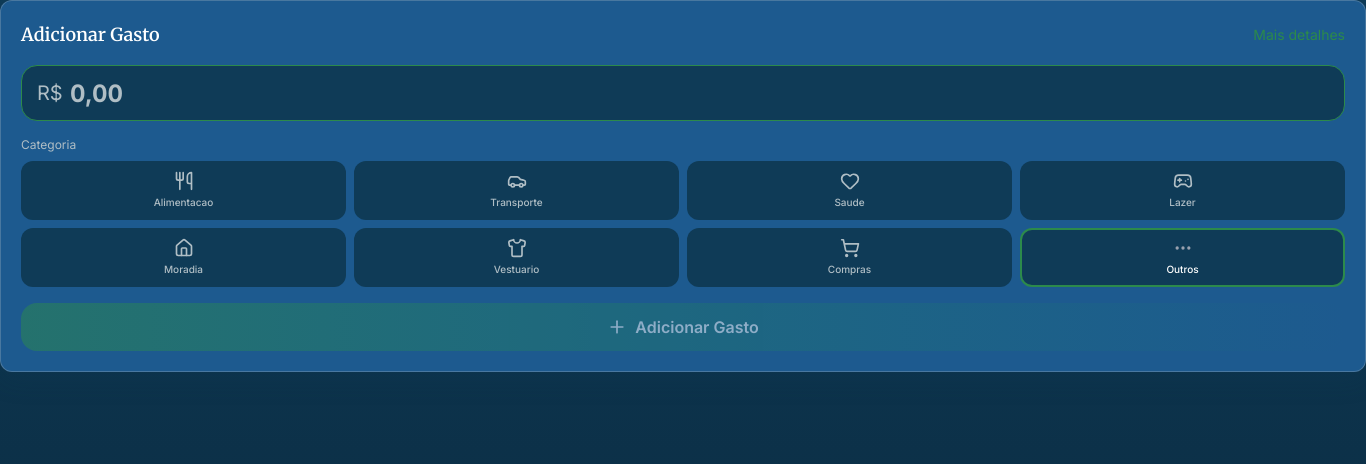
Test: logging an expense takes one number › should show the server error instead of pretending it worked
In the field with placeholder "0,00": (683, 93) [21,65,1345,121], type "30"
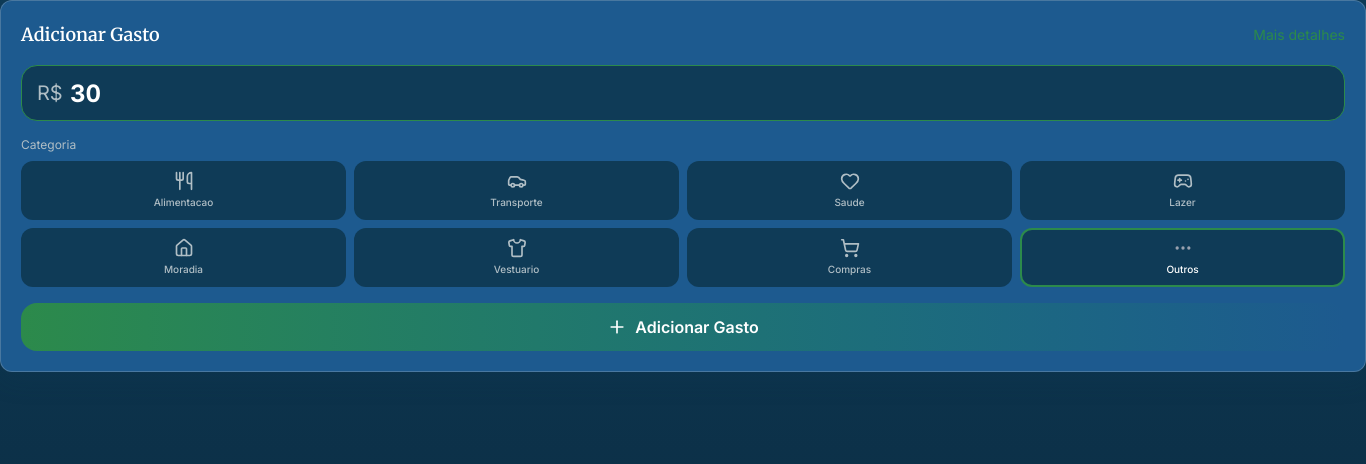
Click the button "Adicionar Gasto": (683, 327) [21,303,1345,351]
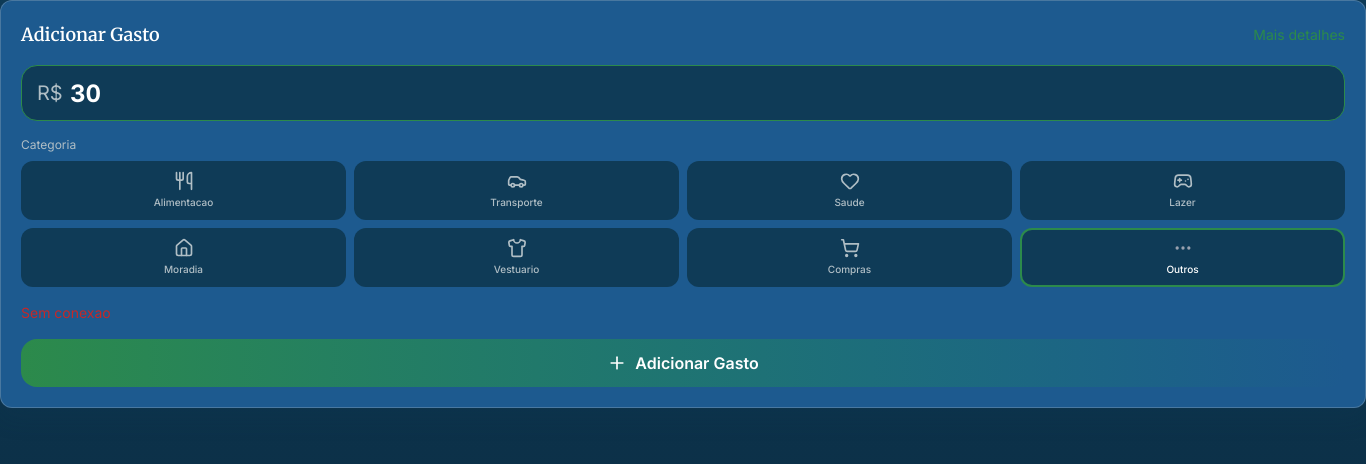
Expected: the text "Sem conexao" is shown, [21,304,111,321]
